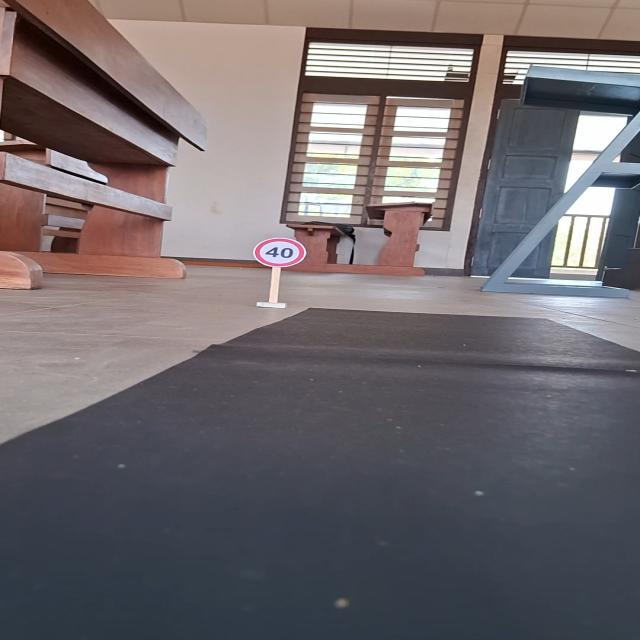Speed40: (252, 236, 308, 269)
